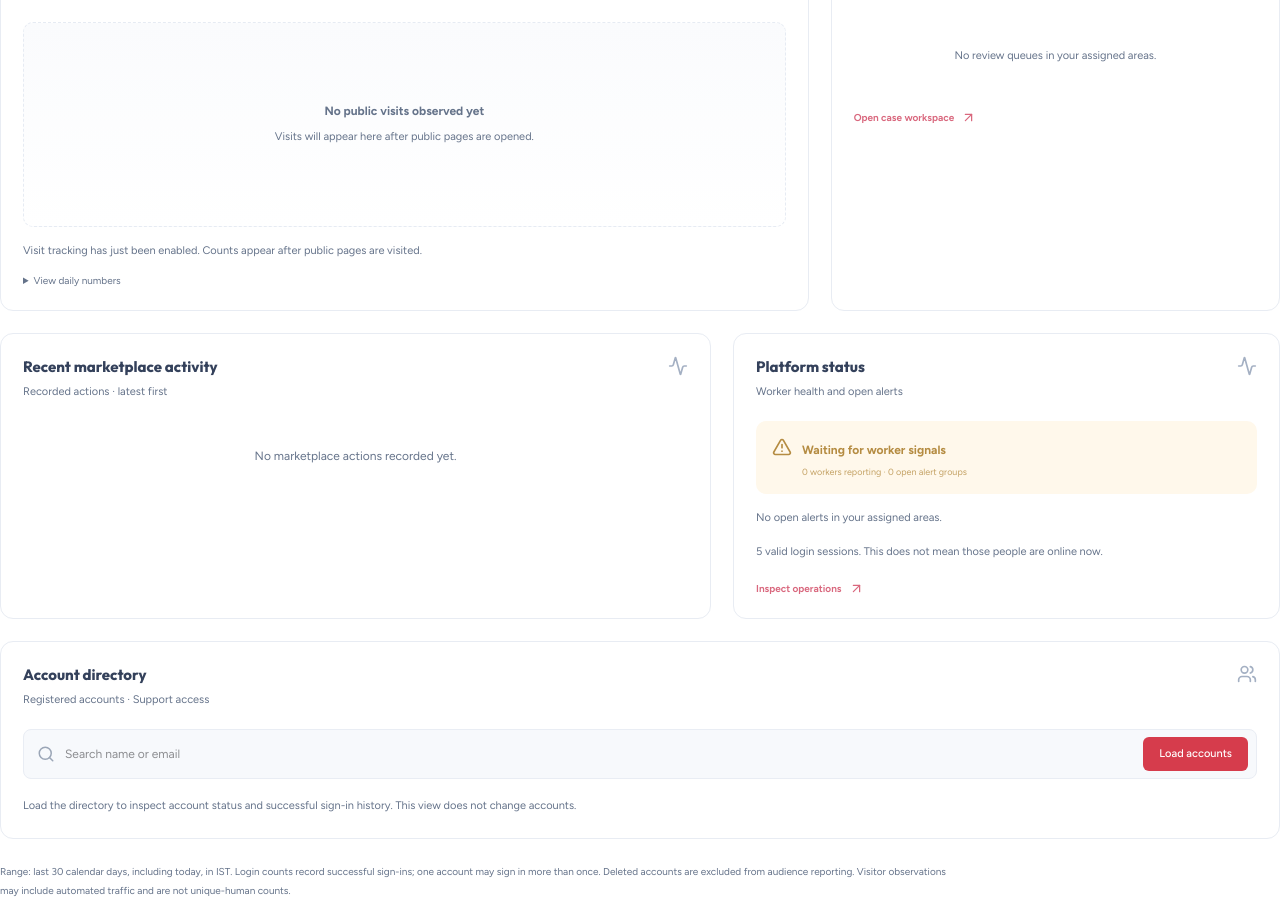
searches the private account directory only after staff action and clears results on denial
(page scrolled)
Expected: the heading "Account directory" is shown, [23,665,146,684]
Click the button "Load accounts".
click(1196, 754)  # box [1143,737,1248,771]
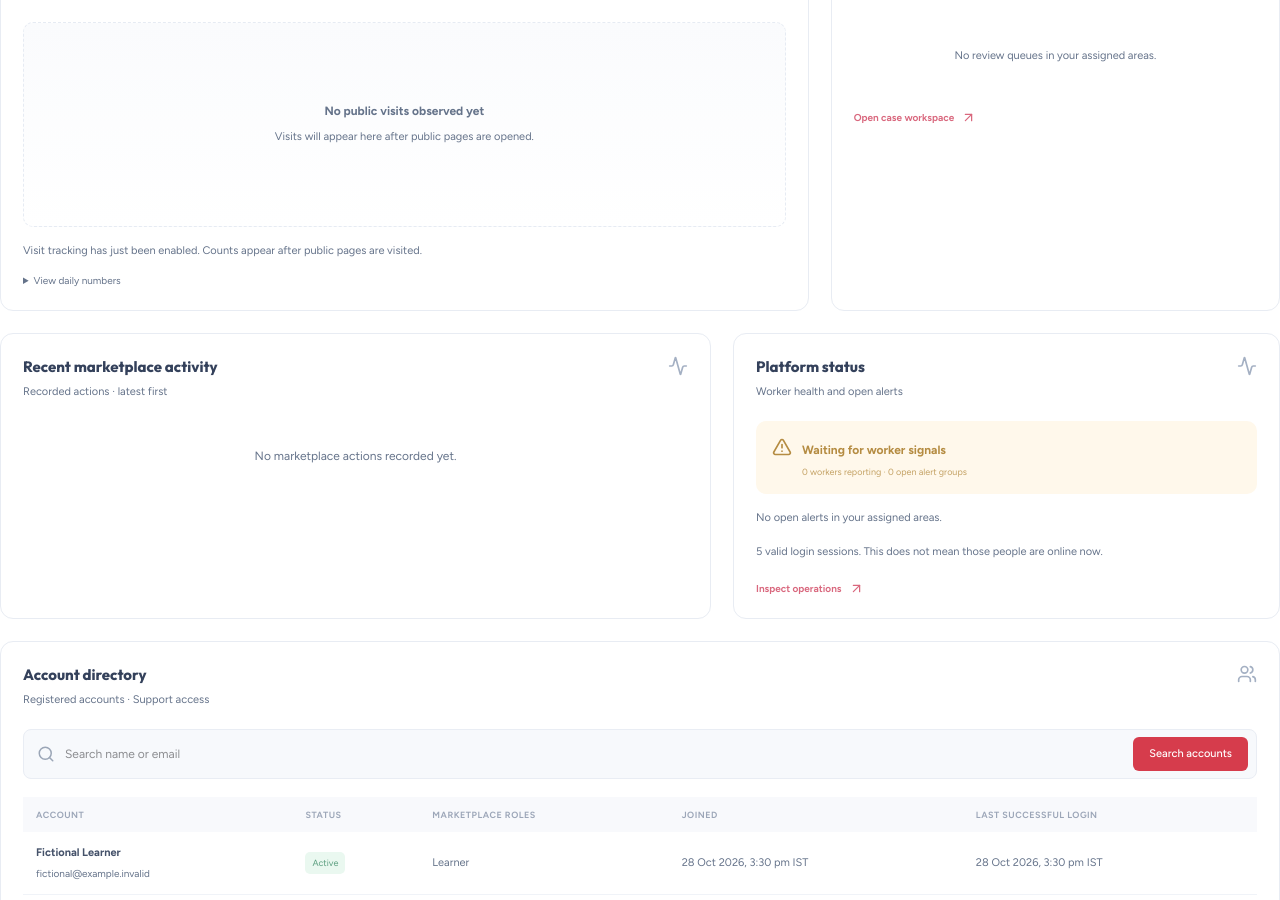
Expected: the text "fictional@example.invalid" is shown, [36,867,150,880]
Type "Changed" into the field named "Search accounts by name or email".
click(594, 754); type("Changed")  # box [65,745,1123,763]
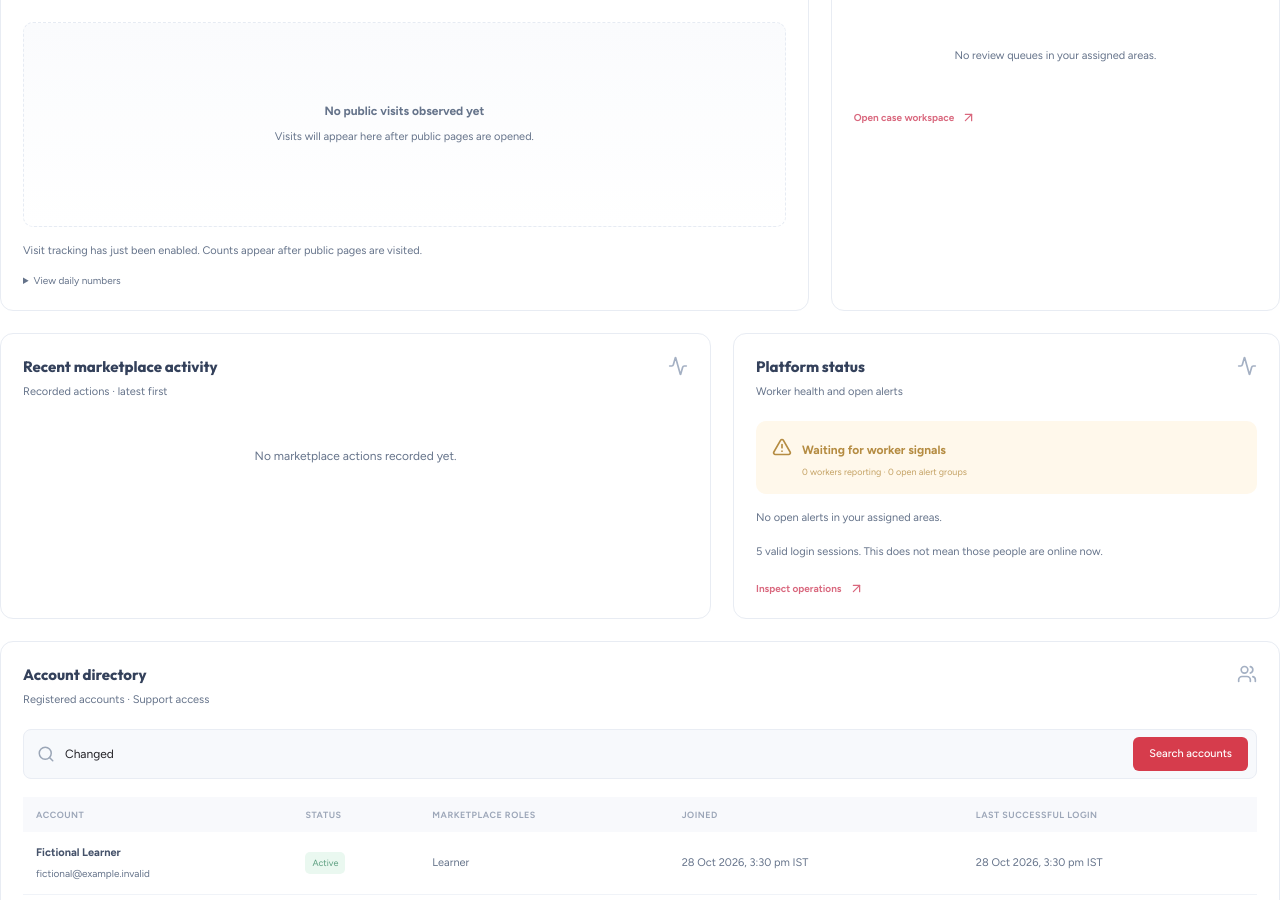
Click the button "Search accounts".
click(1191, 754)  # box [1133,737,1248,771]
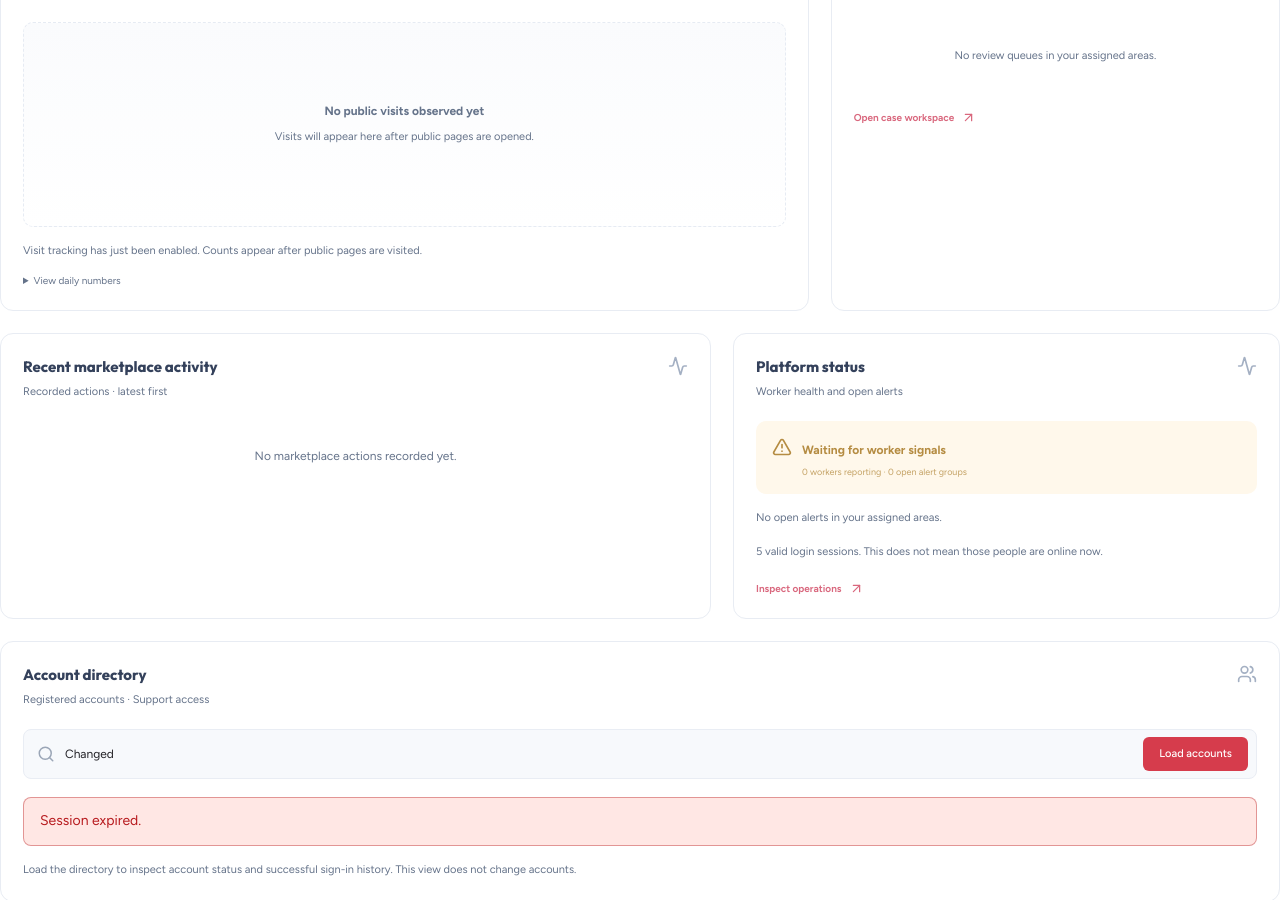
Expected: the text "Session expired." is shown, [23,797,1257,846]
Expected: the text "fictional@example.invalid" is gone
